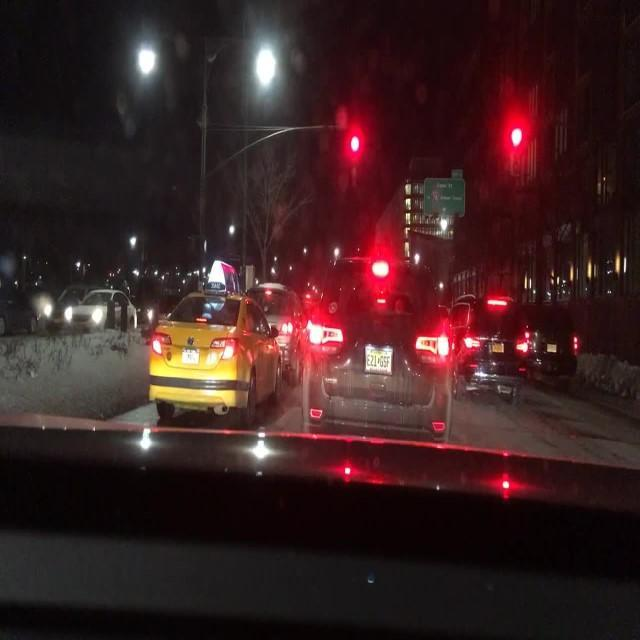normal: (300, 233, 464, 449), (144, 294, 282, 432), (245, 280, 310, 383), (63, 287, 137, 333)
